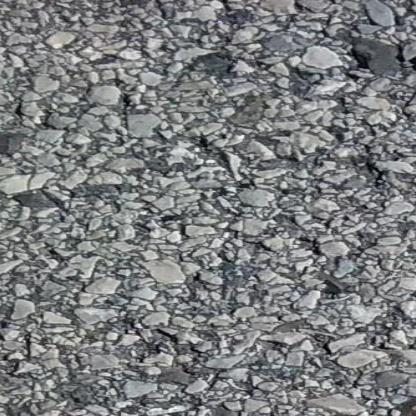Cracks: (0, 359, 416, 416)
